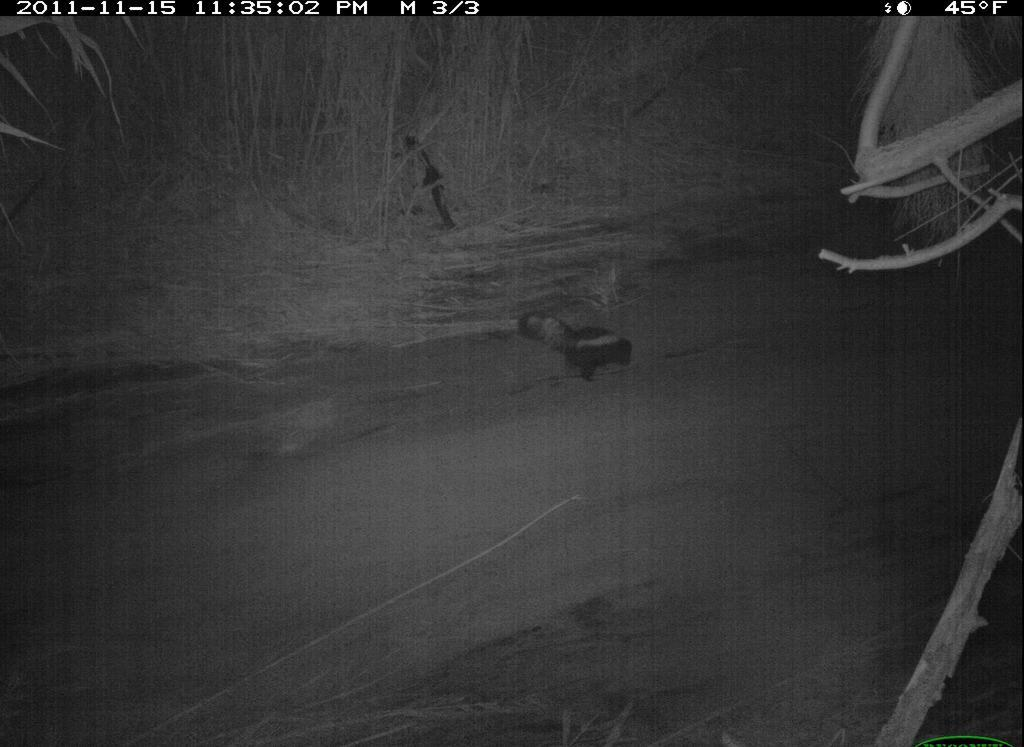skunk: (514, 296, 646, 388)
